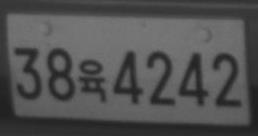2: (212, 53, 242, 108), (146, 52, 175, 106)
3: (12, 46, 42, 100)
4: (111, 51, 143, 104), (178, 51, 208, 106)
8: (46, 48, 76, 102)
육: (78, 59, 106, 103)
